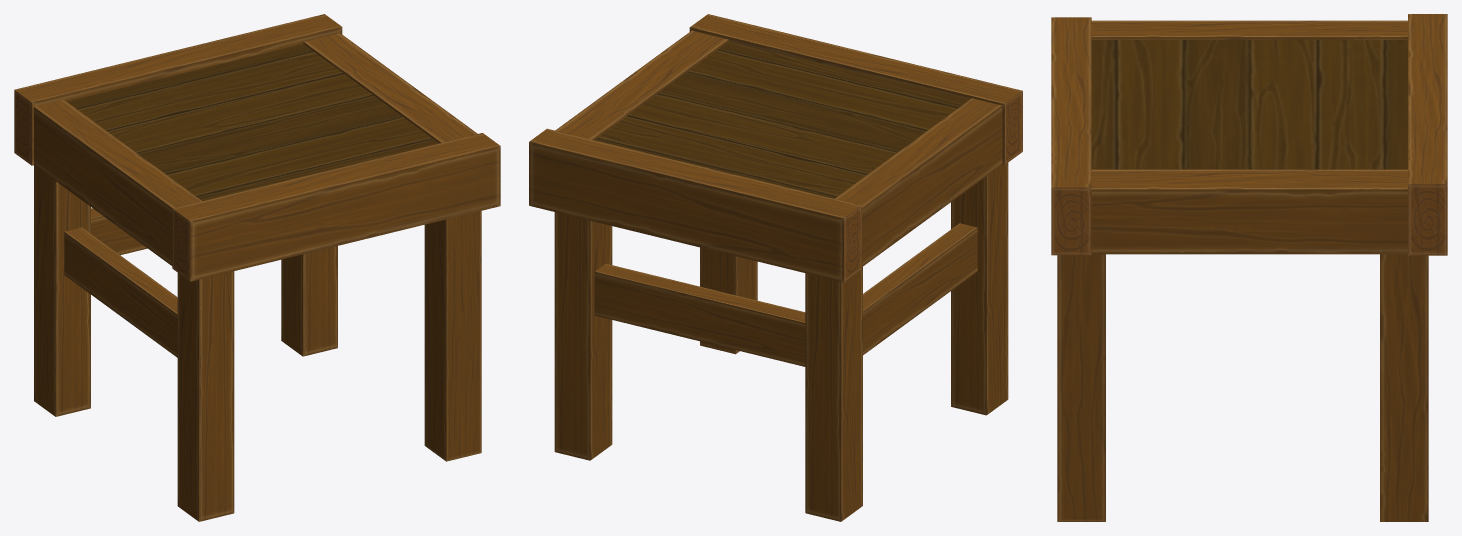
The model's file is SM_Stairs_Interior_Platform_01.fbx.
The picture shows the model from 3 angles, left to right: view 1: azimuth 30°, elevation 25°; view 2: azimuth 150°, elevation 25°; view 3: azimuth 270°, elevation 25°; orthographic projection. The views are drawn at different scales.
Visible parts, largest first — view 1: SM_Stairs_Interior_Platform_01; view 2: SM_Stairs_Interior_Platform_01; view 3: SM_Stairs_Interior_Platform_01.
Boxes of the visible parts, bbox=[...] form: SM_Stairs_Interior_Platform_01: bbox=[14, 14, 500, 521]; SM_Stairs_Interior_Platform_01: bbox=[529, 14, 1022, 521]; SM_Stairs_Interior_Platform_01: bbox=[1051, 14, 1447, 521].
Bounding box in the file's own units: 1.73 × 1.64 × 1.7.
